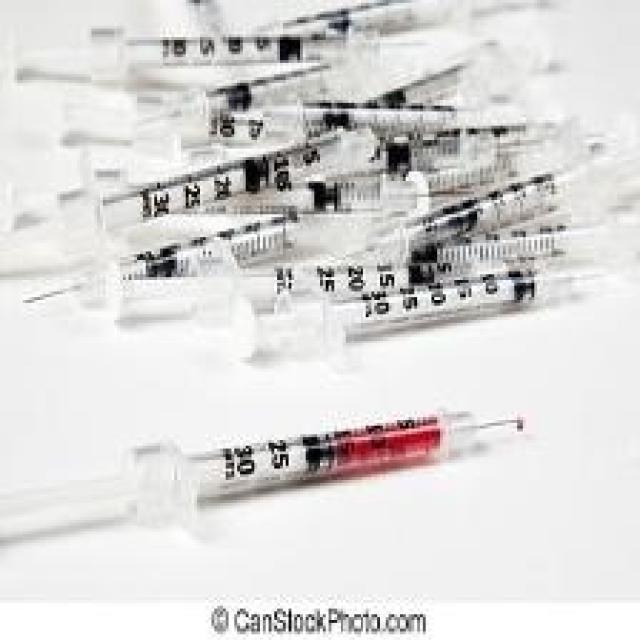syringe: (19, 24, 640, 364), (14, 396, 537, 539)
